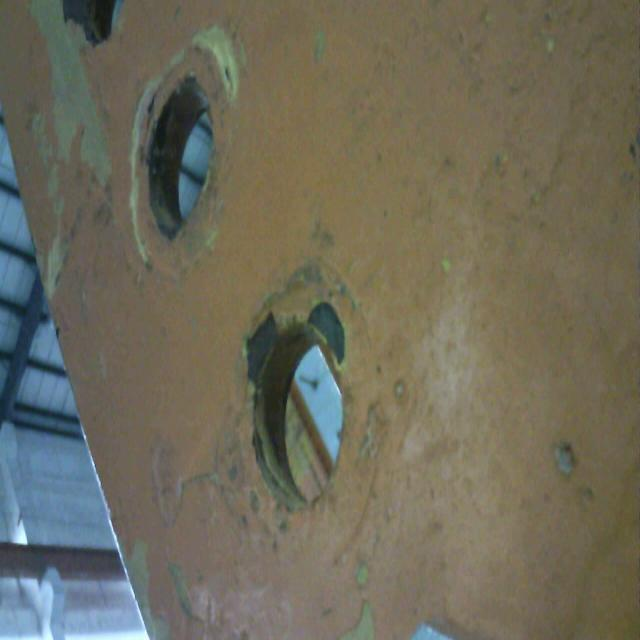Missing bolt: (244, 315, 350, 513), (144, 69, 219, 241), (82, 1, 120, 53)
